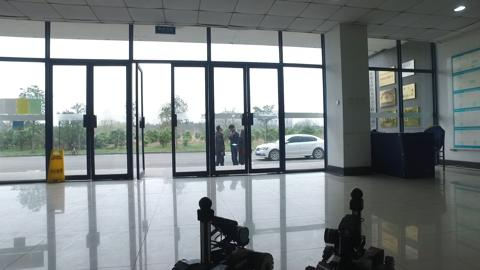chariot: (300, 183, 396, 269), (169, 195, 276, 269)
